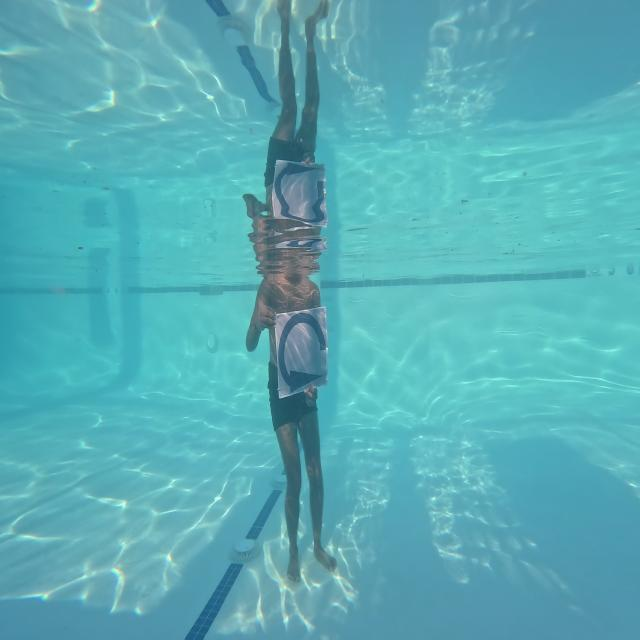blue_side: (276, 309, 327, 395)
